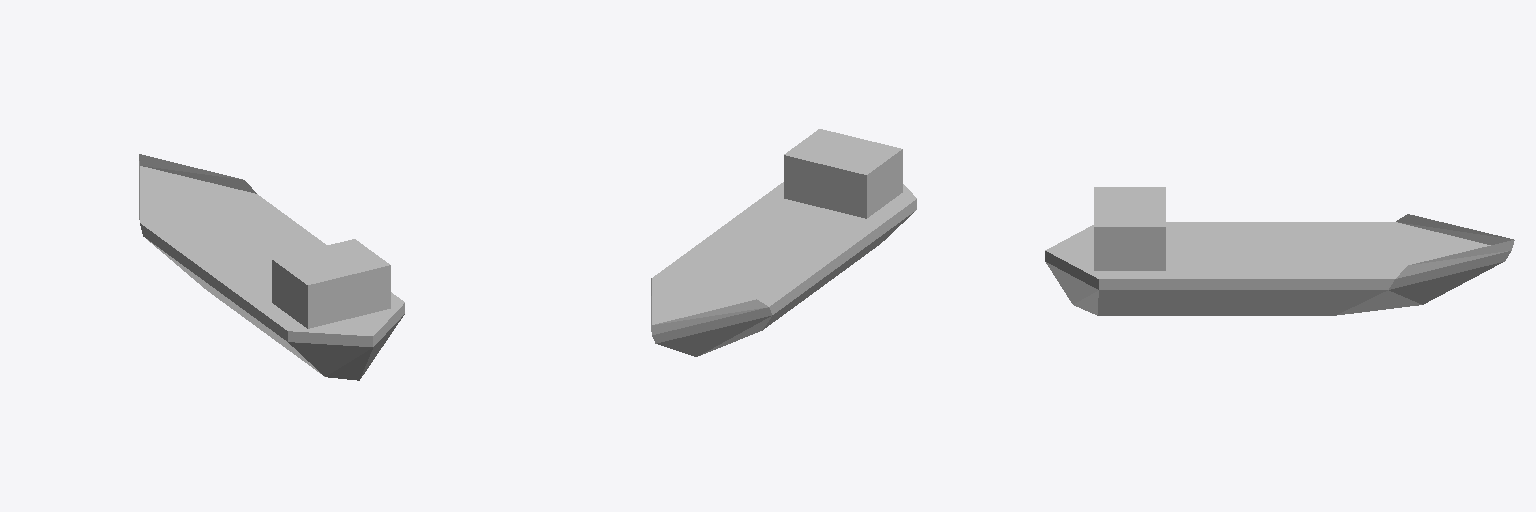
The model's file is ship.obj.
3 renders of one model, left to right at view 1: azimuth 30°, elevation 25°; view 2: azimuth 150°, elevation 25°; view 3: azimuth 270°, elevation 25°, orthographic.
Visible parts, largest first — view 1: Cube.001; view 2: Cube.001; view 3: Cube.001.
Part boxes in pixels (bbox=[...]): Cube.001: bbox=[139, 154, 404, 380]; Cube.001: bbox=[651, 129, 916, 356]; Cube.001: bbox=[1045, 187, 1514, 315].
Bounding box in the file's own units: 28.28 × 22.5 × 97.79.